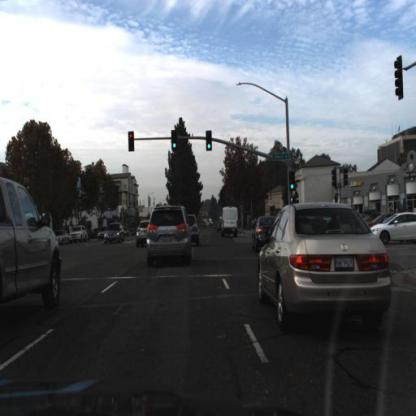car: (257, 196, 394, 327), (1, 180, 65, 327), (143, 201, 194, 271), (370, 210, 415, 244), (251, 211, 280, 262), (187, 211, 203, 256), (220, 206, 241, 238), (102, 221, 125, 246), (135, 219, 150, 252), (70, 226, 88, 246)
trafficLight: (289, 171, 298, 194), (171, 130, 179, 153), (206, 132, 214, 151), (130, 133, 136, 153)
